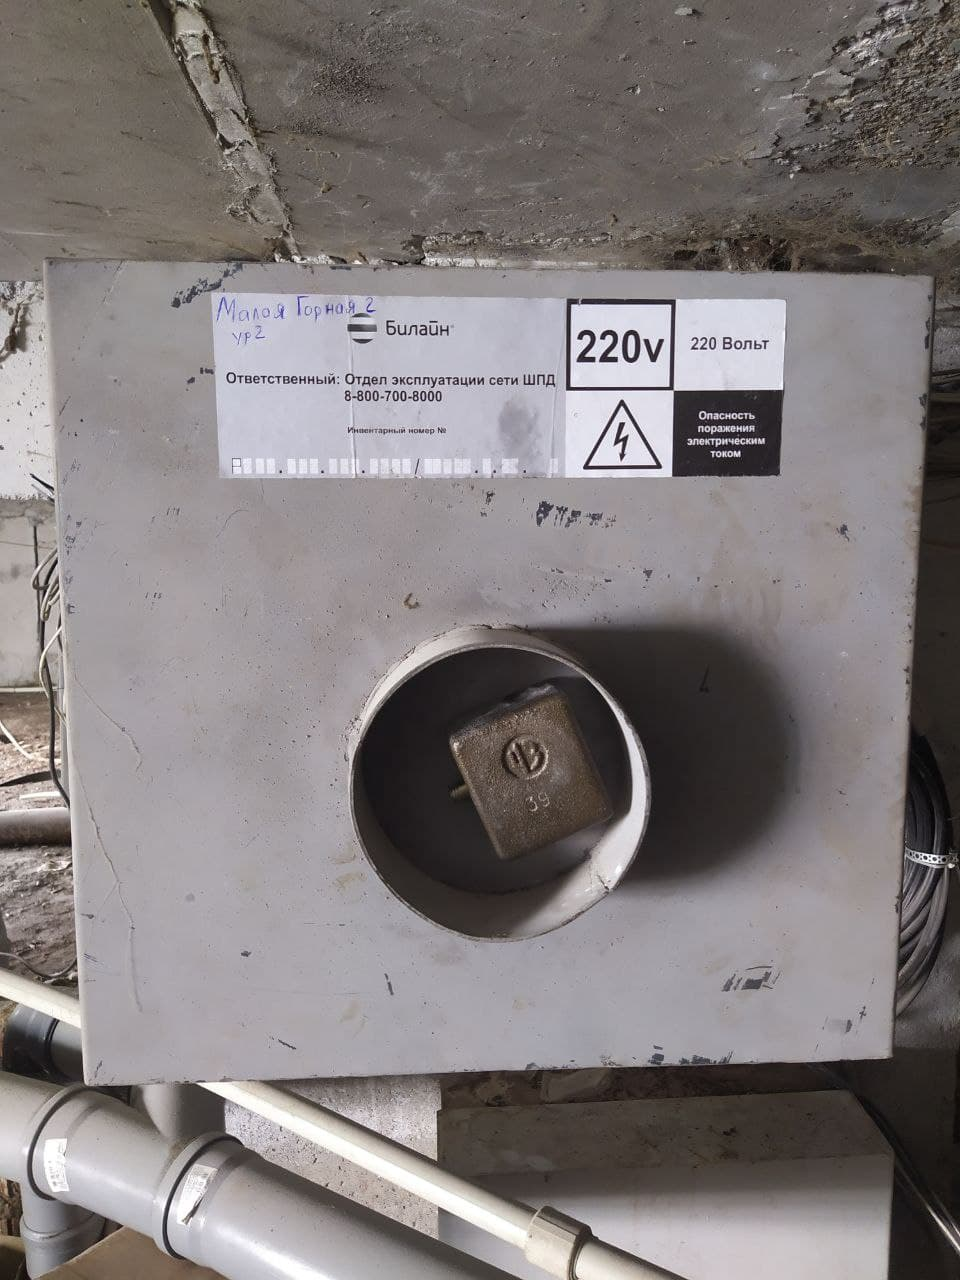shta-9: (36, 250, 942, 1094)
